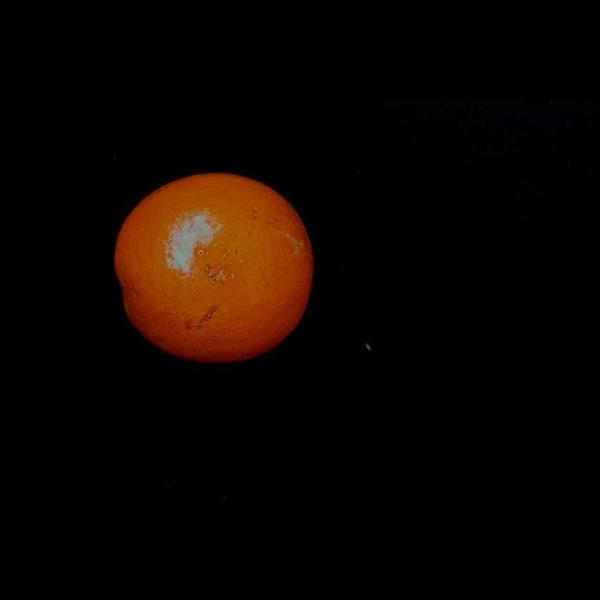Moho verde: (105, 168, 328, 386)
